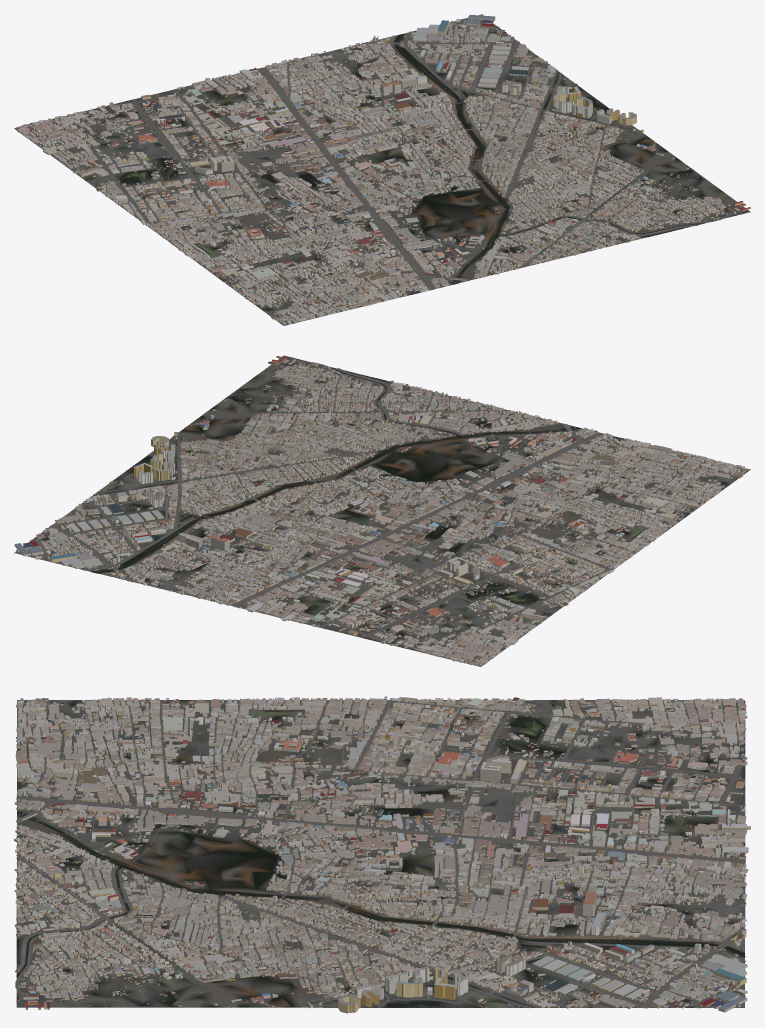
The picture shows the model from 3 angles, top to bottom: view 1: azimuth 30°, elevation 25°; view 2: azimuth 150°, elevation 25°; view 3: azimuth 270°, elevation 25°; orthographic projection. The views are drawn at different scales.
Visible parts, largest first — view 1: buildings, ground, roads, water; view 2: buildings, ground, roads, water; view 3: buildings, ground, roads, water.
Part boxes in pixels (x1=…): buildings: x1=15, y1=14, x2=750, y2=324; ground: x1=14, y1=14, x2=750, y2=325; roads: x1=35, y1=18, x2=742, y2=324; water: x1=121, y1=33, x2=704, y2=284; buildings: x1=14, y1=356, x2=749, y2=665; ground: x1=14, y1=355, x2=750, y2=666; roads: x1=30, y1=357, x2=745, y2=658; water: x1=92, y1=367, x2=580, y2=602; buildings: x1=14, y1=696, x2=750, y2=1013; ground: x1=16, y1=700, x2=745, y2=1007; roads: x1=15, y1=700, x2=746, y2=1008; water: x1=16, y1=720, x2=745, y2=1007.
Bounding box in the file's own units: 2863 × 61.17 × 2834.
